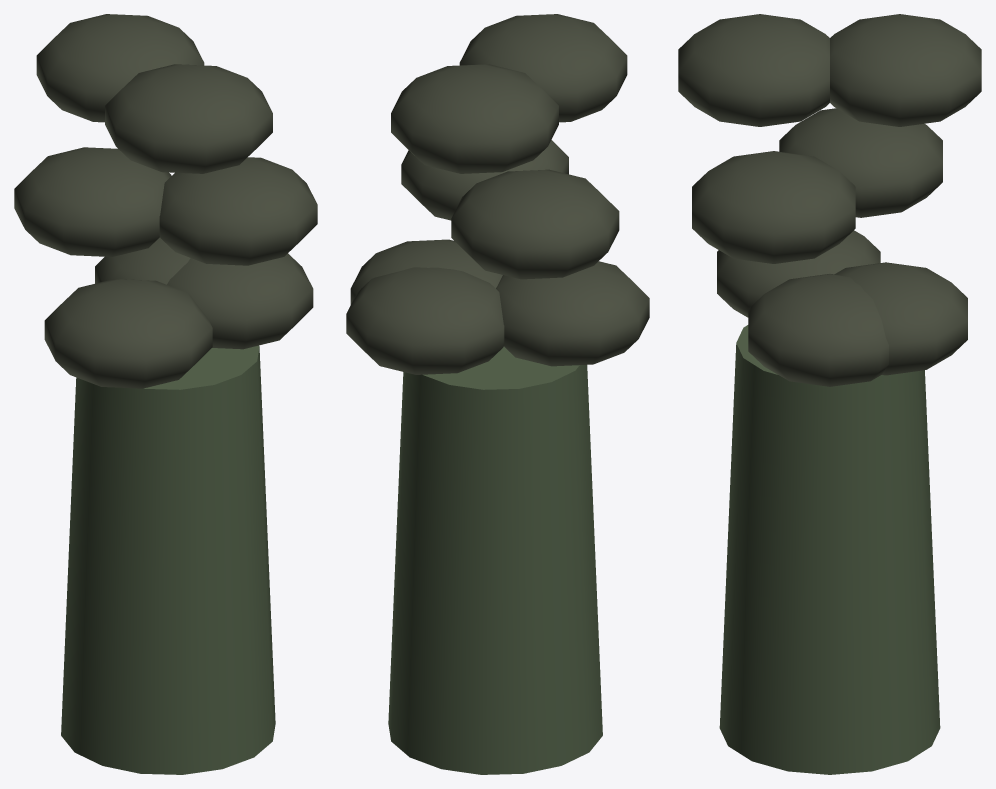
The model's file is plant-desk.glb.
The picture shows the model from 3 angles, left to right: view 1: azimuth 30°, elevation 25°; view 2: azimuth 150°, elevation 25°; view 3: azimuth 270°, elevation 25°; orthographic projection.
Visible parts, largest first — view 1: REF-L03-R01-plant-desk-part-1, REF-L03-R01-plant-desk-part-5, REF-L03-R01-plant-desk-part-4, REF-L03-R01-plant-desk-part-3, REF-L03-R01-plant-desk-part-6, REF-L03-R01-plant-desk-part-7, REF-L03-R01-plant-desk-part-2, REF-L03-R01-plant-desk-part-8; view 2: REF-L03-R01-plant-desk-part-1, REF-L03-R01-plant-desk-part-6, REF-L03-R01-plant-desk-part-7, REF-L03-R01-plant-desk-part-8, REF-L03-R01-plant-desk-part-5, REF-L03-R01-plant-desk-part-4, REF-L03-R01-plant-desk-part-3, REF-L03-R01-plant-desk-part-2; view 3: REF-L03-R01-plant-desk-part-1, REF-L03-R01-plant-desk-part-3, REF-L03-R01-plant-desk-part-4, REF-L03-R01-plant-desk-part-7, REF-L03-R01-plant-desk-part-2, REF-L03-R01-plant-desk-part-6, REF-L03-R01-plant-desk-part-8, REF-L03-R01-plant-desk-part-5.
Part boxes in pixels (<box>): REF-L03-R01-plant-desk-part-1: <box>61,345,275,774</box>; REF-L03-R01-plant-desk-part-5: <box>44,279,212,388</box>; REF-L03-R01-plant-desk-part-4: <box>105,64,272,173</box>; REF-L03-R01-plant-desk-part-3: <box>159,157,317,265</box>; REF-L03-R01-plant-desk-part-6: <box>14,147,171,256</box>; REF-L03-R01-plant-desk-part-7: <box>36,14,204,122</box>; REF-L03-R01-plant-desk-part-2: <box>167,253,313,349</box>; REF-L03-R01-plant-desk-part-8: <box>95,237,190,284</box>; REF-L03-R01-plant-desk-part-1: <box>388,346,602,774</box>; REF-L03-R01-plant-desk-part-6: <box>451,169,619,279</box>; REF-L03-R01-plant-desk-part-7: <box>391,64,558,173</box>; REF-L03-R01-plant-desk-part-8: <box>346,267,504,374</box>; REF-L03-R01-plant-desk-part-5: <box>496,261,649,366</box>; REF-L03-R01-plant-desk-part-4: <box>459,14,627,122</box>; REF-L03-R01-plant-desk-part-3: <box>401,140,568,220</box>; REF-L03-R01-plant-desk-part-2: <box>350,239,502,304</box>; REF-L03-R01-plant-desk-part-1: <box>719,325,940,774</box>; REF-L03-R01-plant-desk-part-3: <box>692,151,855,263</box>; REF-L03-R01-plant-desk-part-4: <box>678,14,829,126</box>; REF-L03-R01-plant-desk-part-7: <box>830,14,981,126</box>; REF-L03-R01-plant-desk-part-2: <box>748,274,888,386</box>; REF-L03-R01-plant-desk-part-6: <box>779,108,942,217</box>; REF-L03-R01-plant-desk-part-8: <box>835,262,967,375</box>; REF-L03-R01-plant-desk-part-5: <box>717,230,880,317</box>.
Size of the model in its own units: 0.0587 by 0.146 by 0.0578.
